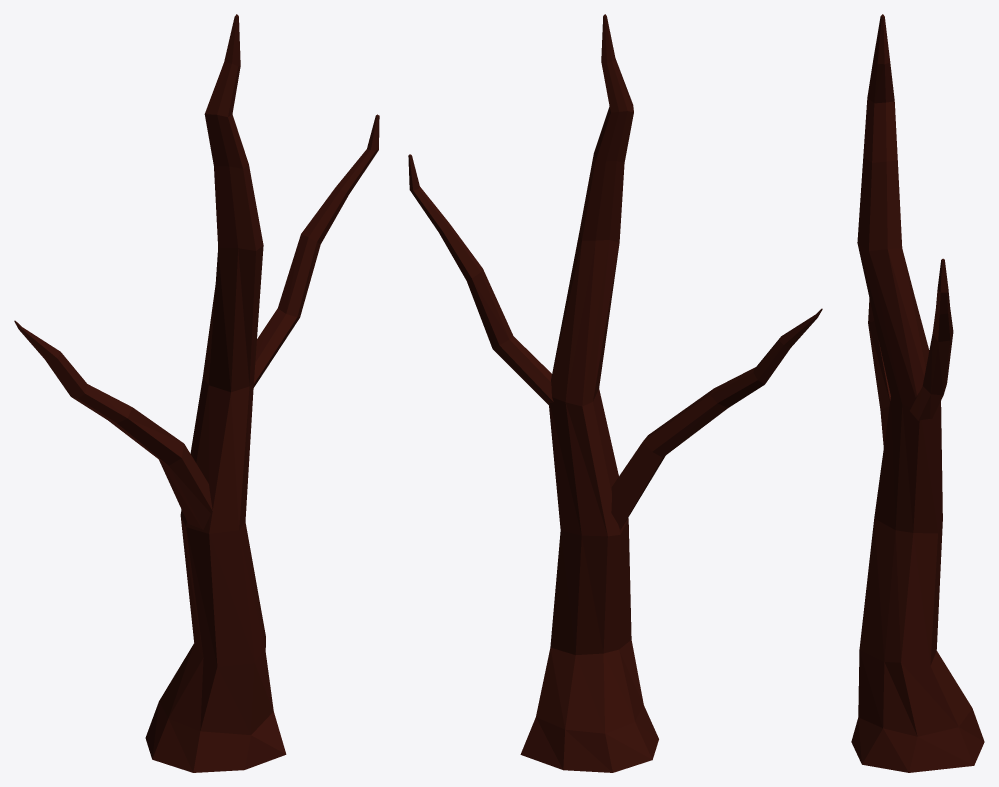
The model's file is Trunk_2.obj.
3 renders of one model, left to right at view 1: azimuth 30°, elevation 25°; view 2: azimuth 150°, elevation 25°; view 3: azimuth 270°, elevation 25°, orthographic. The views are drawn at different scales.
Visible parts, largest first — view 1: Trunk.2; view 2: Trunk.2; view 3: Trunk.2.
Part boxes in pixels (box(x1,y1,x2,y2)): Trunk.2: box(14, 14, 379, 772); Trunk.2: box(408, 14, 822, 772); Trunk.2: box(851, 14, 984, 772).
Bounding box in the file's own units: 3.06 × 5.49 × 0.9058.
